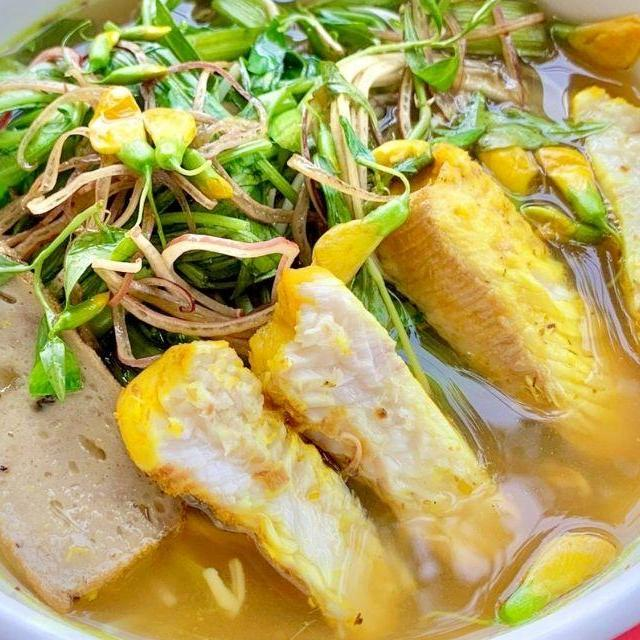ca: (107, 328, 422, 640), (236, 255, 516, 590), (368, 136, 612, 431), (567, 84, 640, 379)
rau ram: (0, 190, 126, 409), (299, 0, 521, 102)
